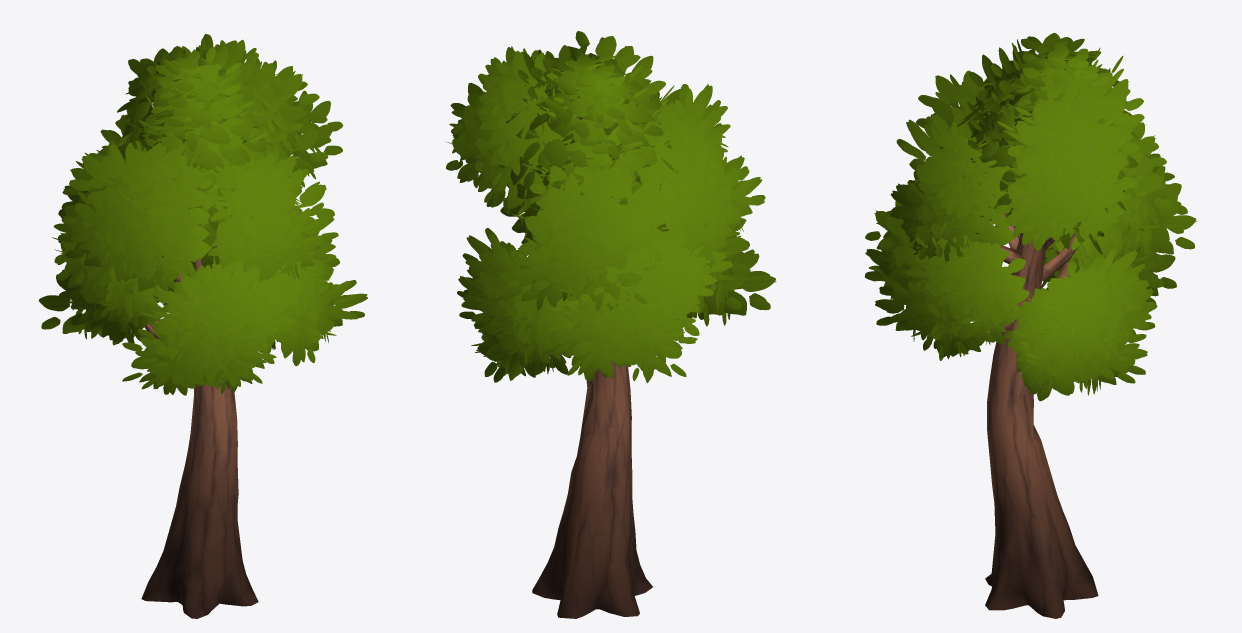
File: CommonTree_1.glb
The picture shows the model from 3 angles, left to right: view 1: azimuth 30°, elevation 25°; view 2: azimuth 150°, elevation 25°; view 3: azimuth 270°, elevation 25°; orthographic projection. The views are drawn at different scales.
Visible parts, largest first — view 1: CommonTree_1; view 2: CommonTree_1; view 3: CommonTree_1.
Part boxes in pixels (box(x1,y1,x2,y2)): CommonTree_1: box(38, 34, 367, 618); CommonTree_1: box(445, 31, 776, 618); CommonTree_1: box(864, 33, 1197, 618).
Size of the model in its own units: 4.31 by 7.26 by 4.58.
Materials: 2 (2 with a texture image).
